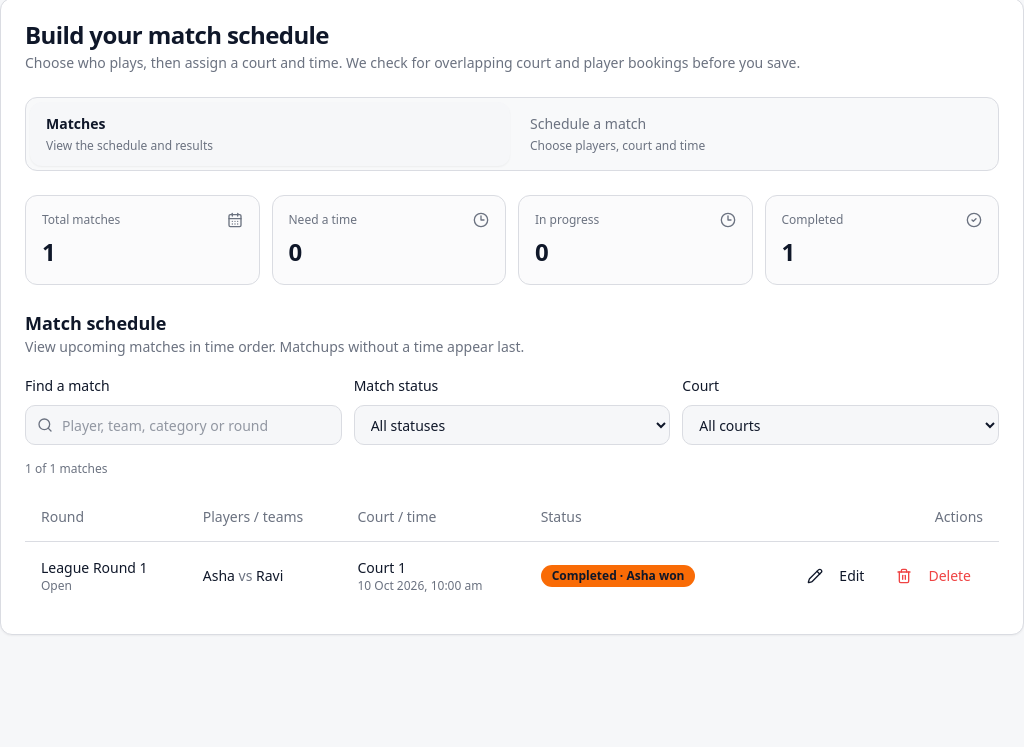
Test: match scheduling usability › keeps previous-round losers eligible in a league
Click the tab "Schedule a match Choose players, court and time". click: [588, 124]
box: [514,102,994,166]
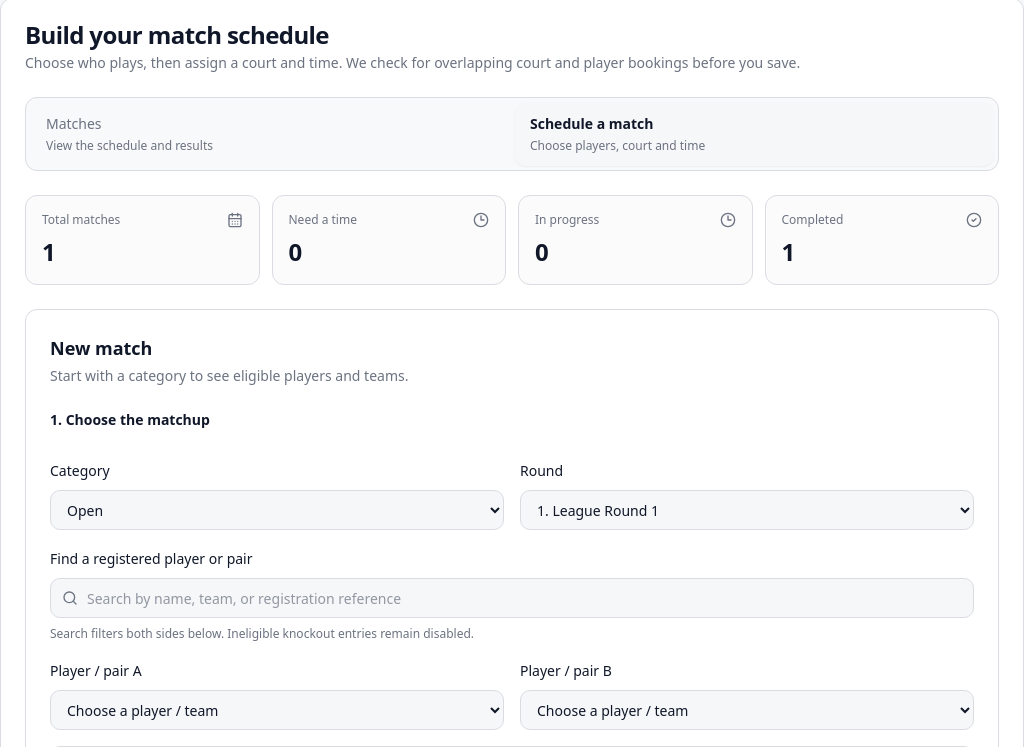
Select "2. League Round 2" in the dropdown labelled "Round". click: [747, 510]
box: [520,490,974,530]
(page scrolled)
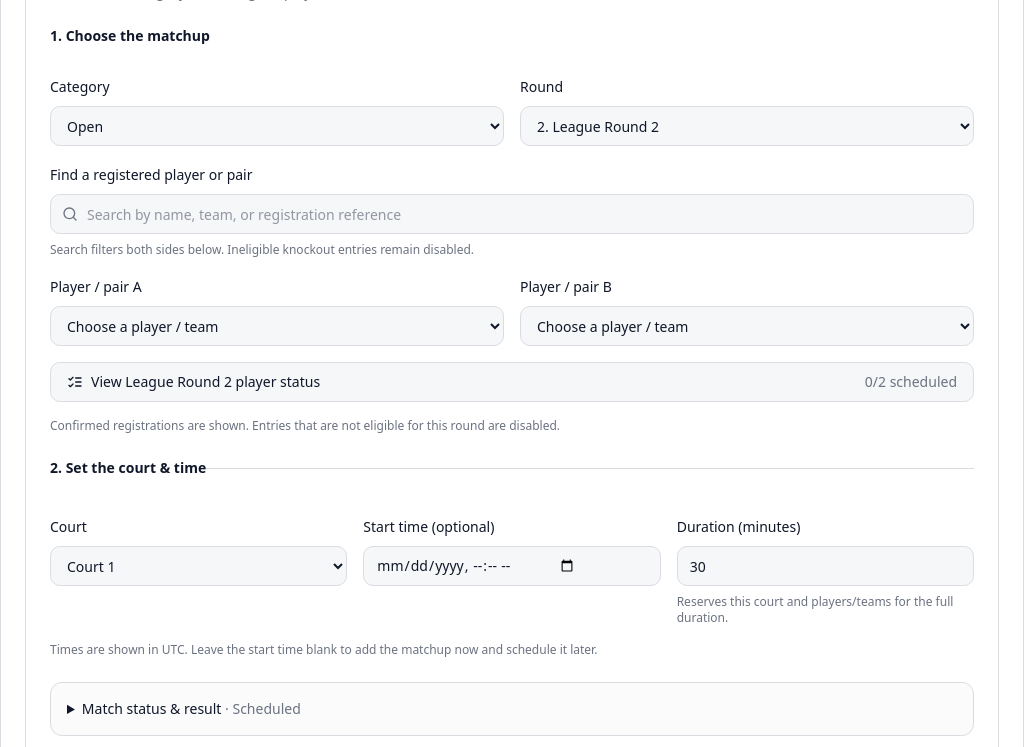
Click the button "View League Round 2 player status 0/2 scheduled". click: [108, 382]
box: [50,362,974,402]
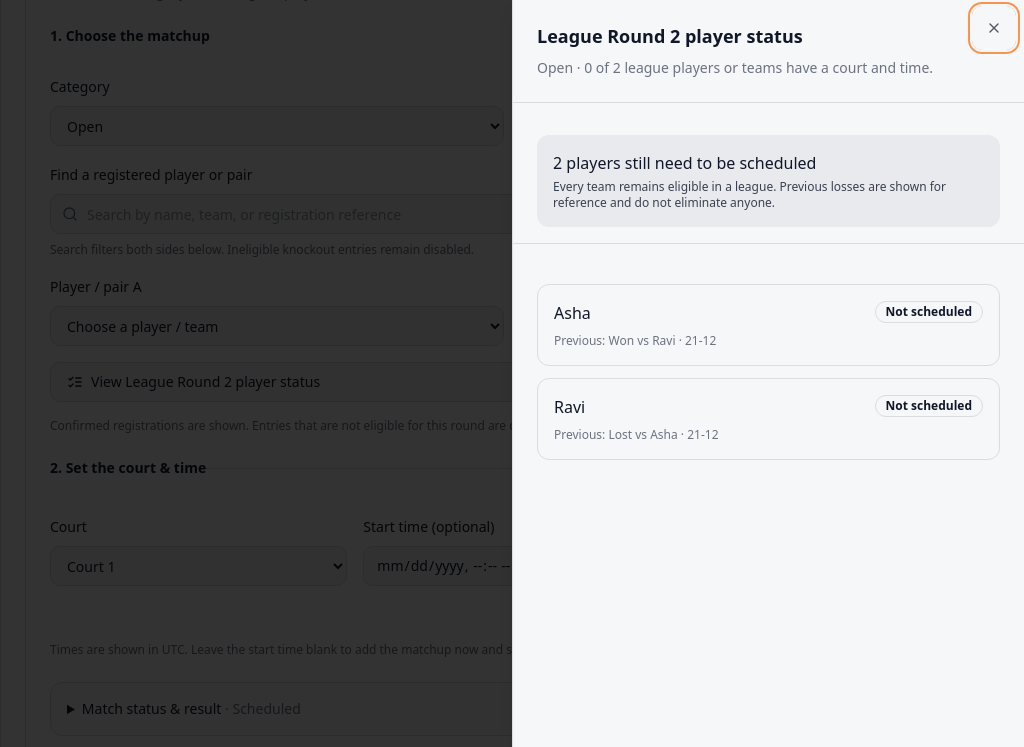
Expected: the text "2 players still need to be scheduled" is shown, [553,152,816,174]
Expected: the text "Previous: Lost vs Asha · 21-12" is shown, [554,426,718,443]
